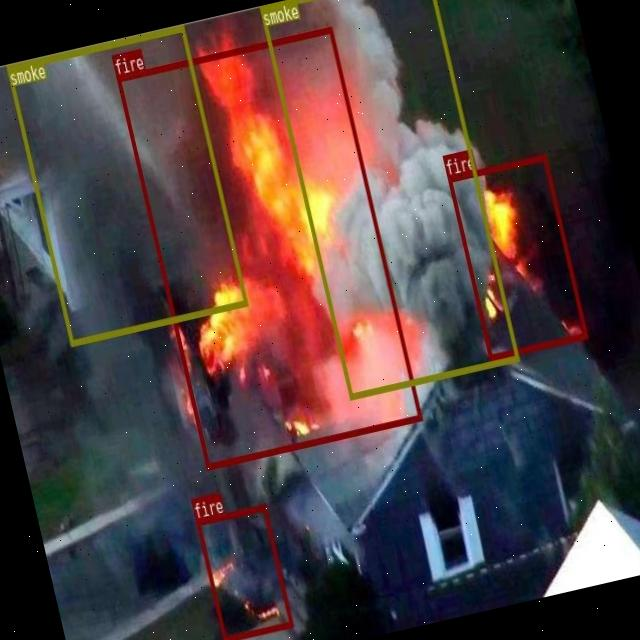fire: (116, 24, 422, 467), (447, 151, 588, 359), (194, 502, 292, 640)
smoke: (258, 0, 518, 397), (5, 24, 246, 344)
